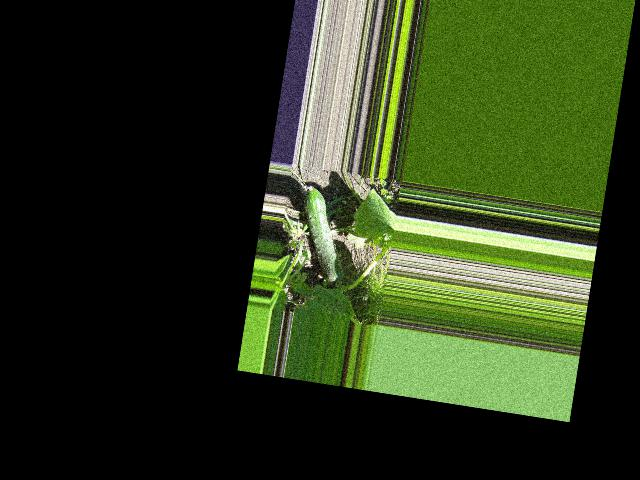cucumber: (291, 185, 356, 285)
